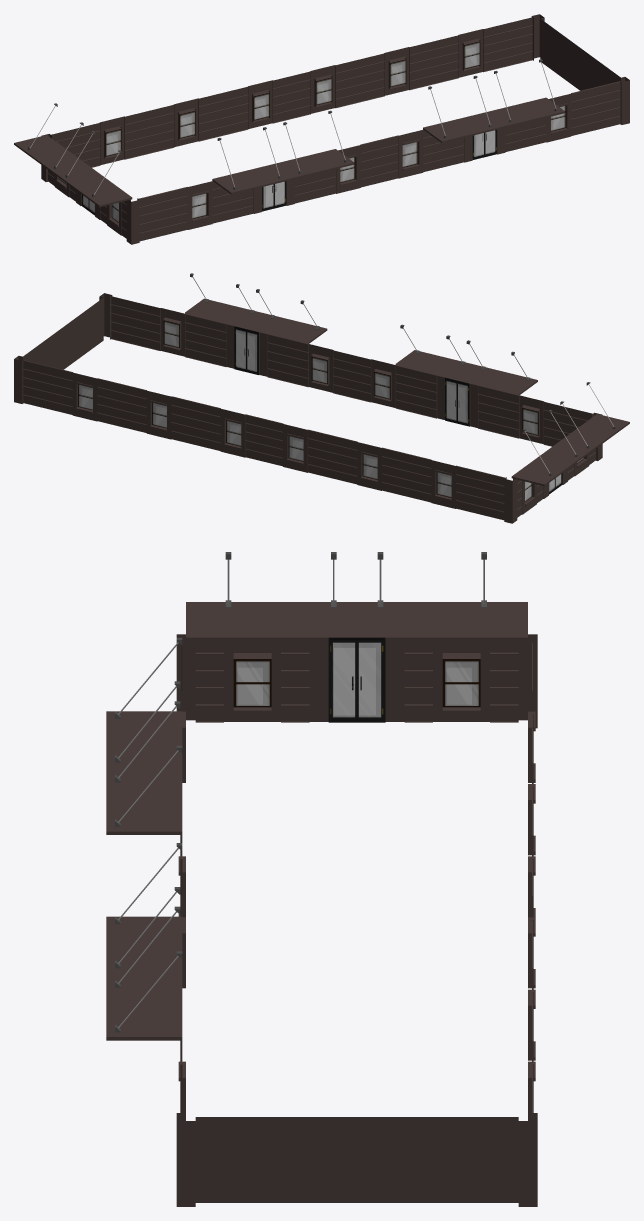
The model's file is BuildingSmall4_1.fbx.
3 views of the same model, one above another, from view 1: azimuth 30°, elevation 25°; view 2: azimuth 150°, elevation 25°; view 3: azimuth 270°, elevation 25° (orthographic). The views are drawn at different scales.
Visible parts, largest first — view 1: BuildingSmall4_1; view 2: BuildingSmall4_1; view 3: BuildingSmall4_1.
Boxes of the visible parts, <box> form: BuildingSmall4_1: <box>14,14,629,244</box>; BuildingSmall4_1: <box>14,273,629,523</box>; BuildingSmall4_1: <box>106,552,537,1206</box>.
Bounding box in the file's own units: 6420 × 978 × 2270.
